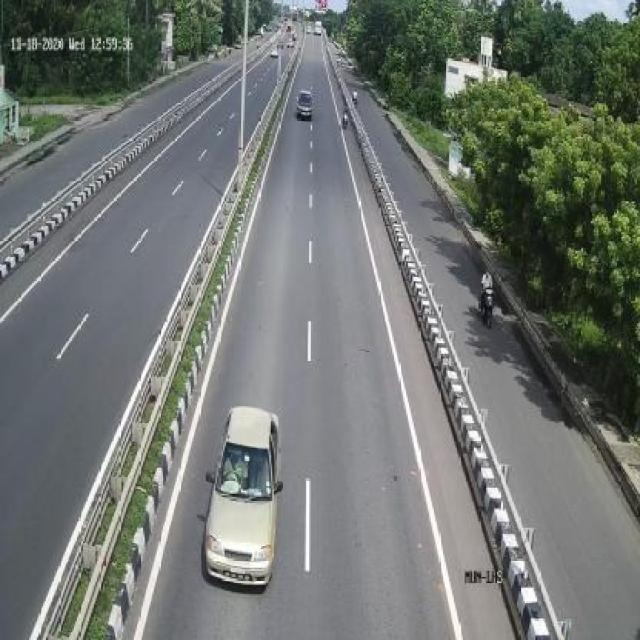car: (204, 404, 276, 590), (292, 88, 317, 117)
